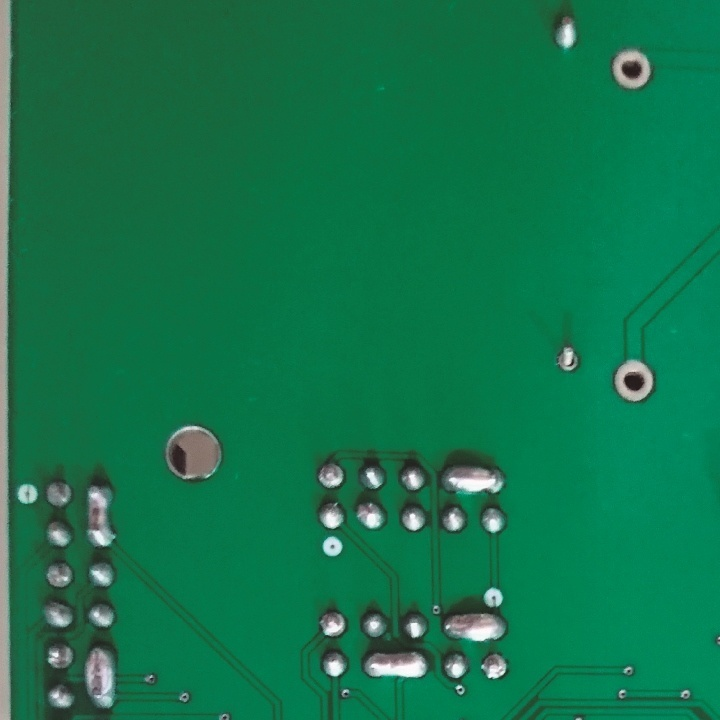F: (612, 358, 656, 405), (610, 46, 654, 92), (41, 479, 73, 512), (316, 607, 350, 638), (480, 651, 512, 683), (316, 460, 348, 490), (43, 640, 73, 672), (43, 560, 75, 589), (555, 342, 581, 375)
P: (81, 640, 120, 711), (439, 460, 506, 498), (83, 483, 117, 552), (440, 610, 509, 642), (361, 649, 431, 680)
